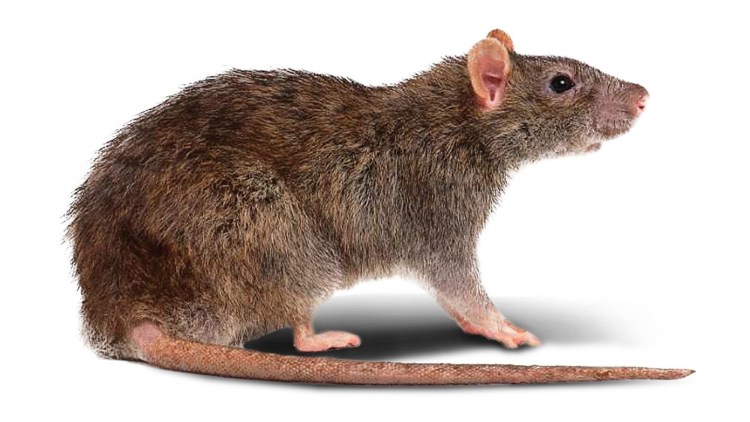rat: (49, 20, 709, 390)
